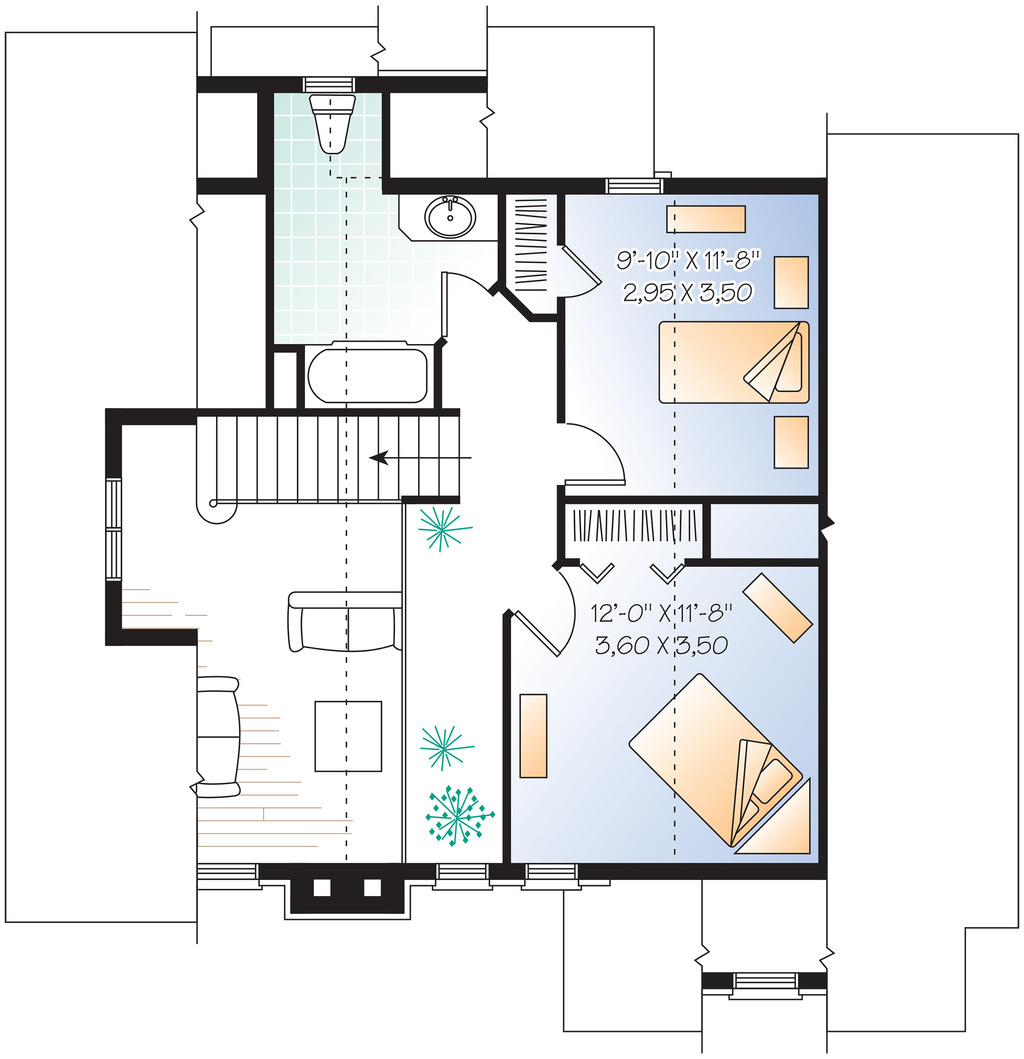bed: (620, 667, 804, 846), (640, 310, 812, 411)
door: (497, 565, 582, 661), (553, 411, 637, 488), (422, 261, 497, 339), (556, 236, 604, 305)
large_sink: (307, 80, 359, 162)
small_sink: (392, 185, 507, 246)
stairs: (194, 411, 471, 523)
tub: (296, 329, 437, 411)
window: (96, 470, 133, 590), (596, 169, 674, 202), (196, 857, 256, 890), (430, 859, 492, 885)
